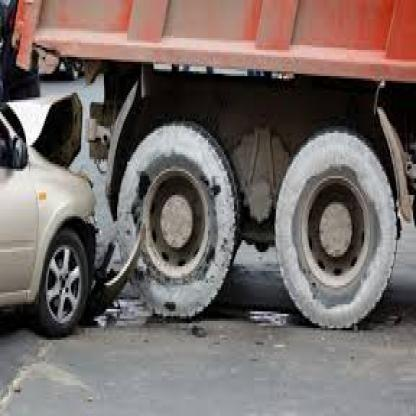accident: (0, 13, 184, 385)
